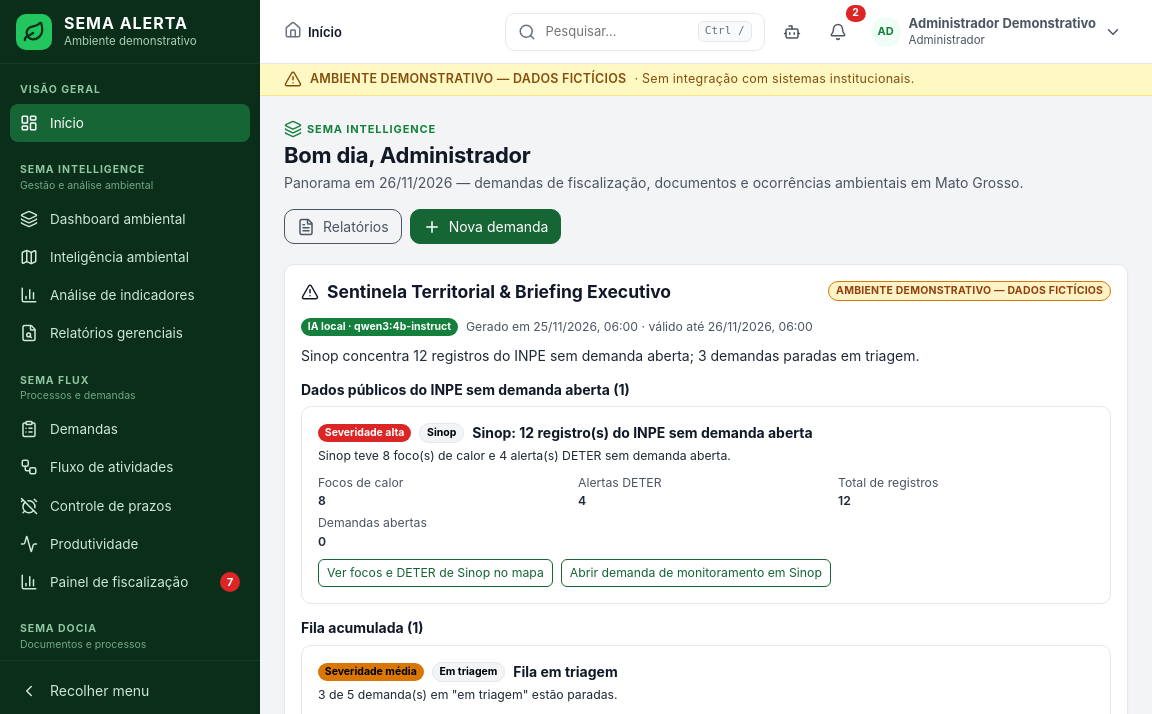
Scenario: Sino de notificações › mostra o contador, lista e atualiza o contador após marcar como lida
The width and height of the screenshot is (1152, 714).
Expected: the text with test id "contador-notificacoes" reads "2", [852,6,859,19]
Click the button named "Notificações (2 não lidas)" at (838, 32), box [819,12,857,50]
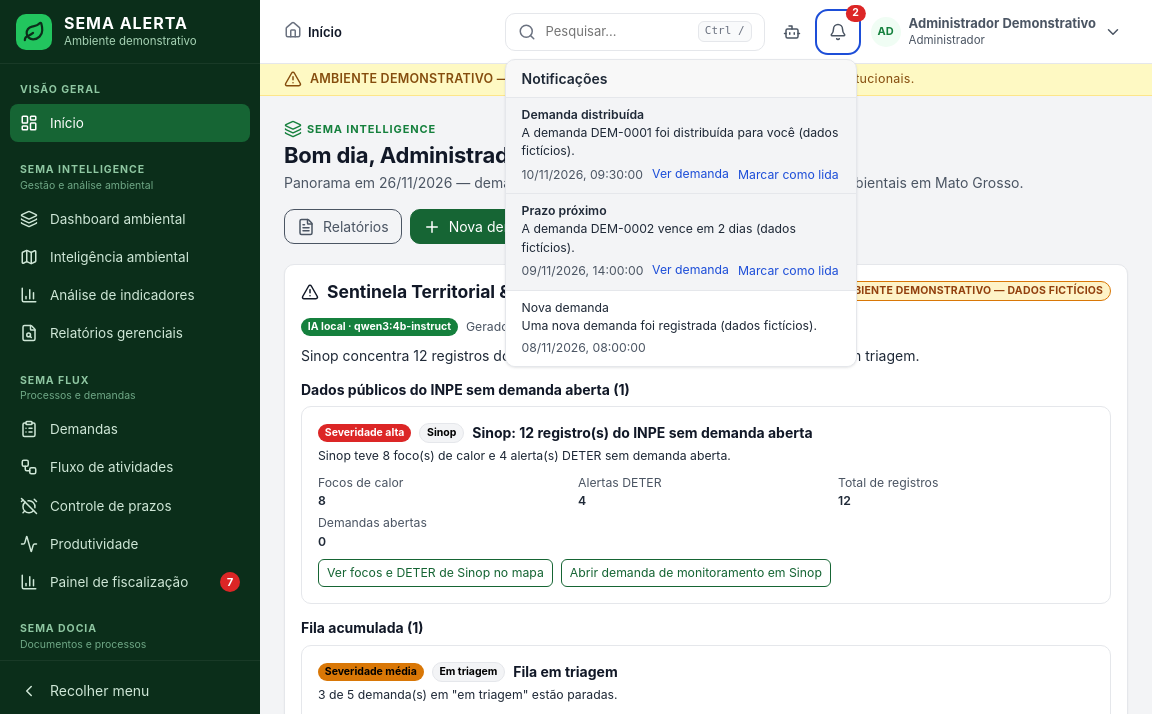
Expected: the text "Demanda distribuída" is shown, [522,106,644,122]
Click the button with aria-label "Marcar como lida: Demanda distribuída" at (788, 175), box [737,165,840,185]
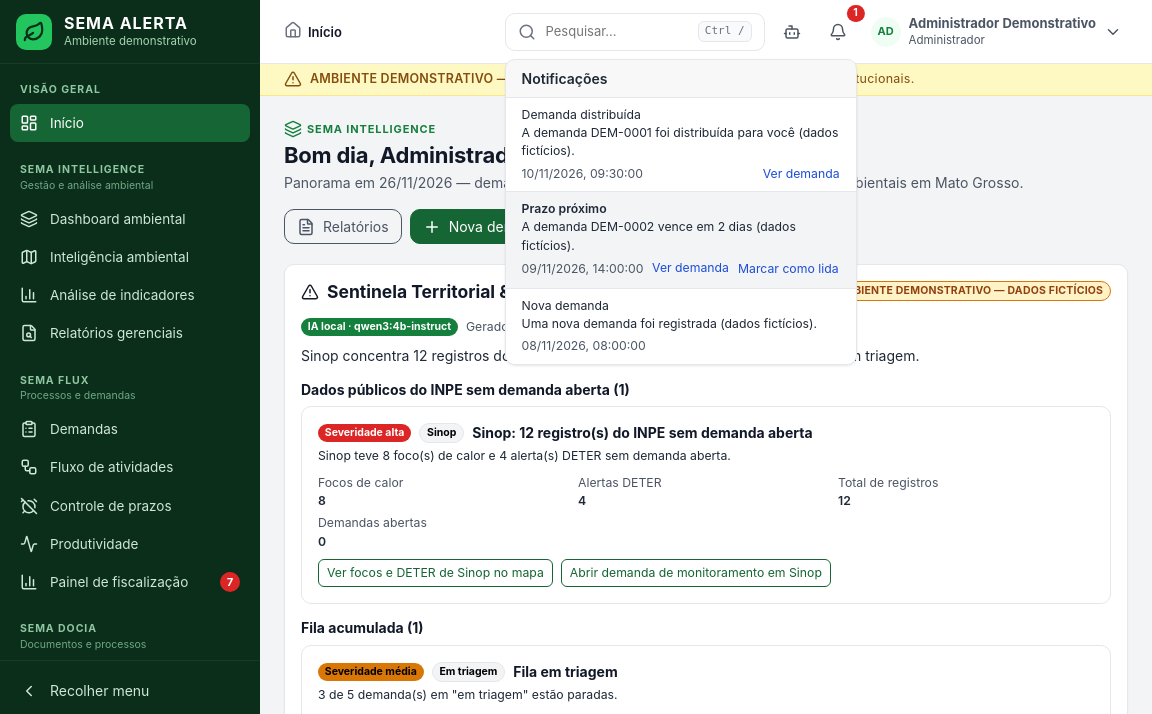
Expected: the button named "Notificações (1 não lidas)" is shown, [819,12,857,50]
